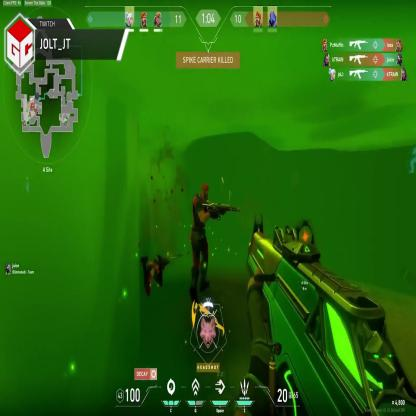enemy: (190, 182, 226, 300)
enemy_head: (201, 184, 209, 200)
